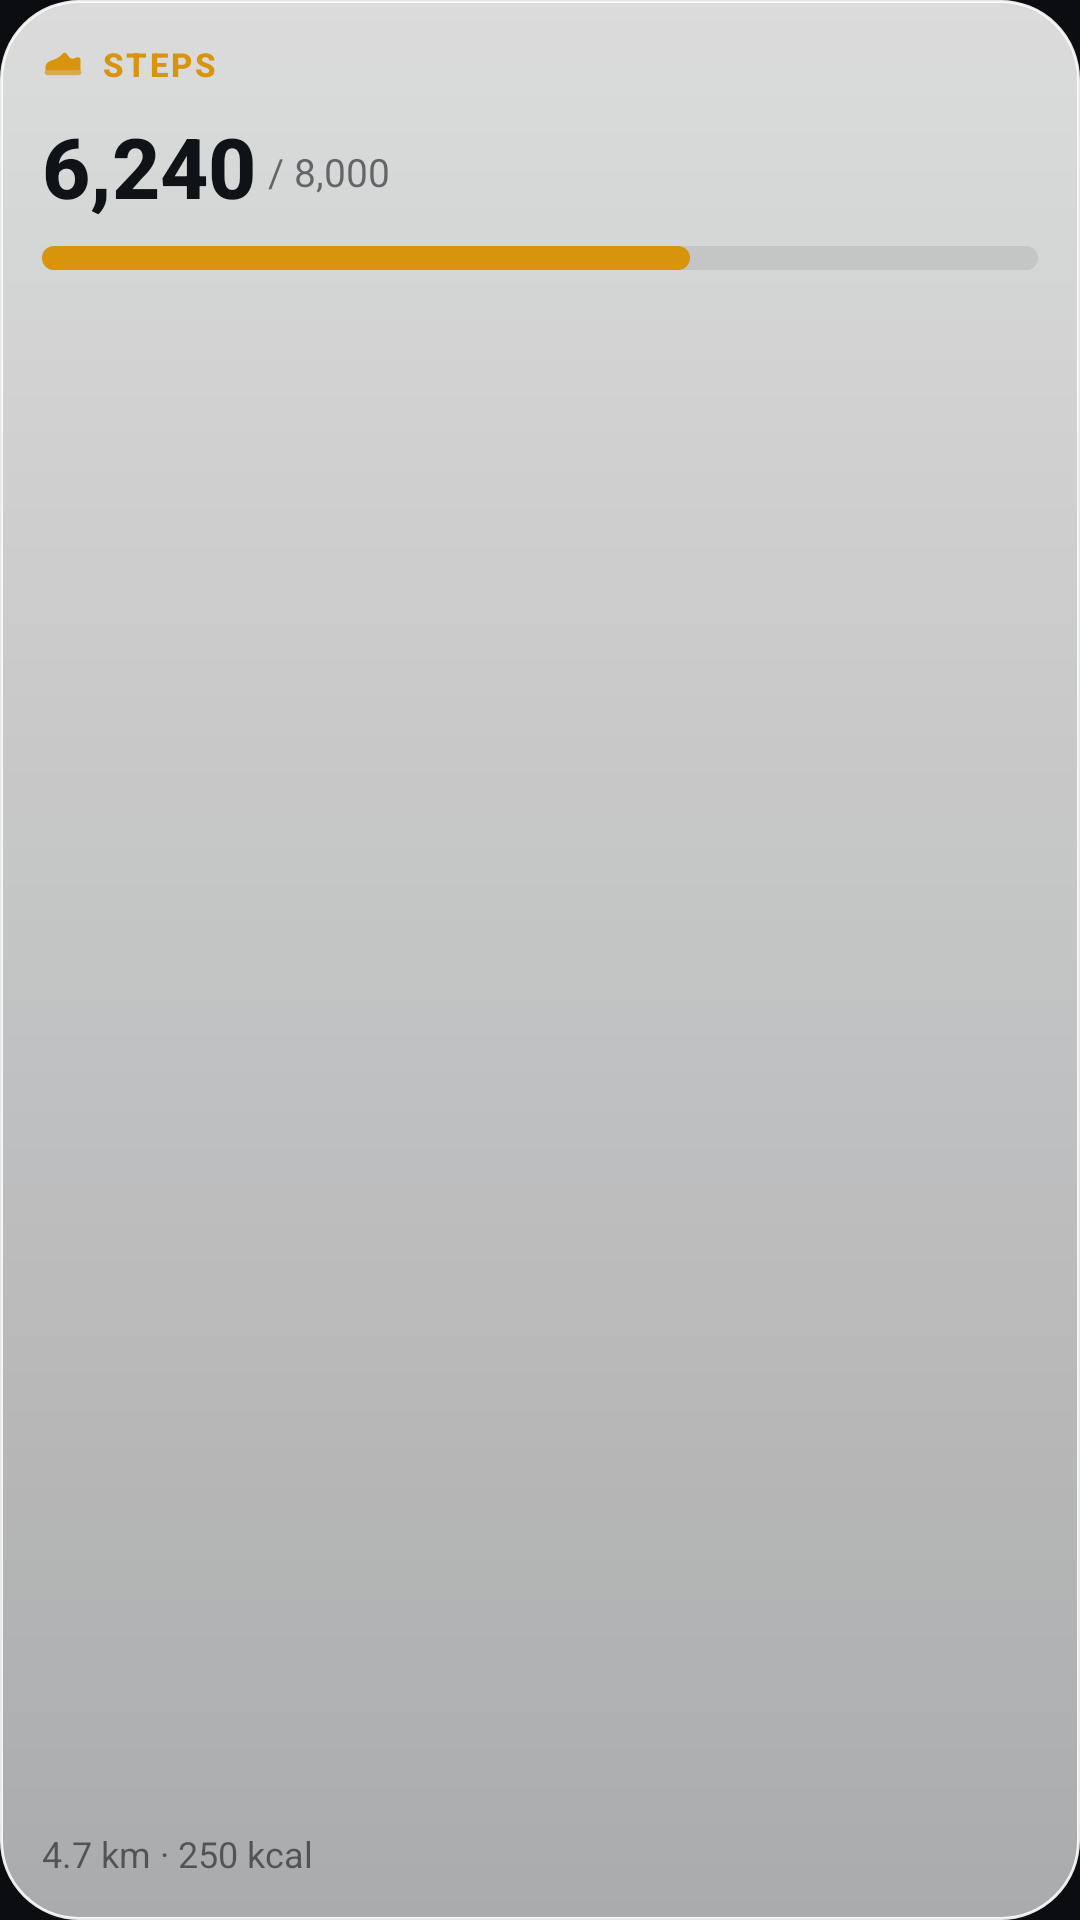

Where icons sit on this 1080 x 1920 app screen, as Rect(x1, y1, x2, y2):
widget shoe: Rect(44, 52, 82, 76)
